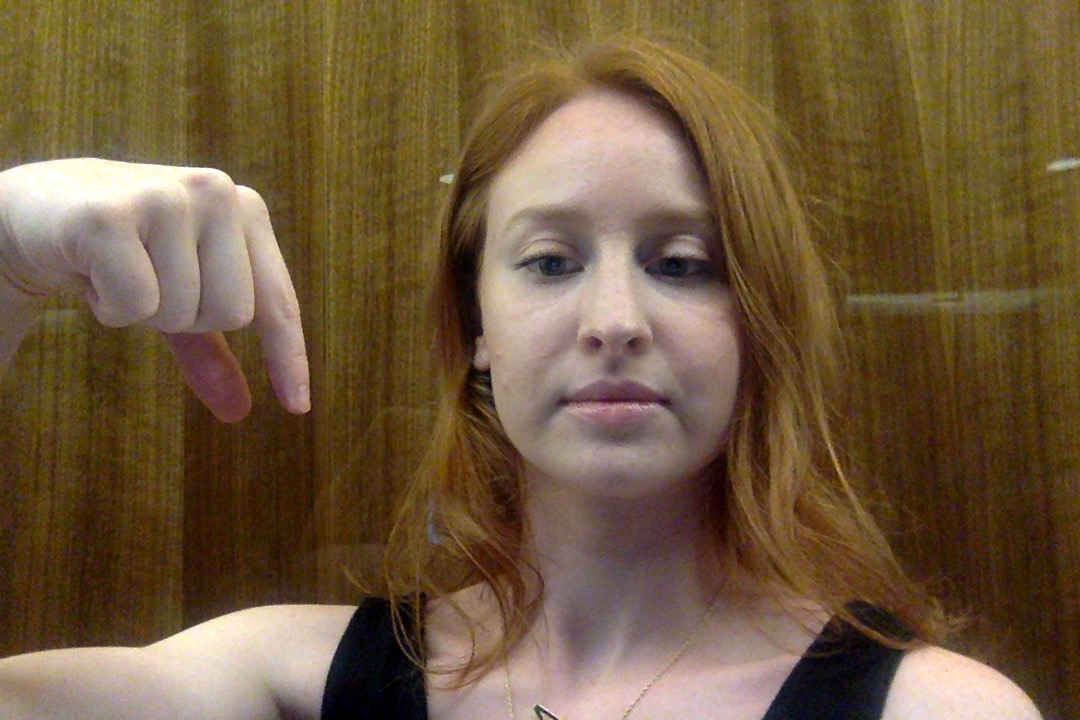q: (2, 152, 335, 430)
